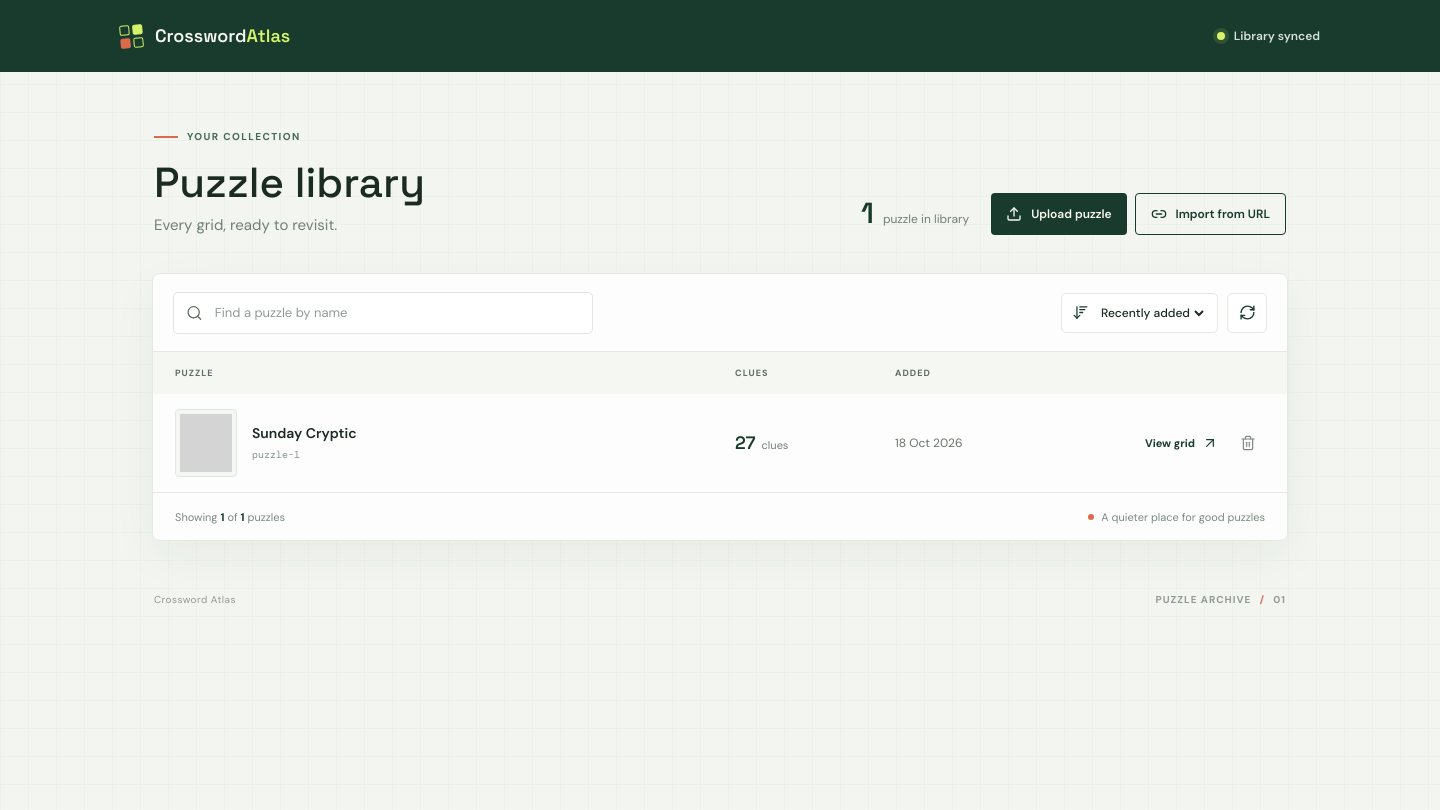
Scenario: opens and closes the upload dialog
Expected: the heading "Sunday Cryptic" is shown, [252,424,357,443]
Click the button "Upload puzzle": [1059, 214] box [991,193,1126,235]
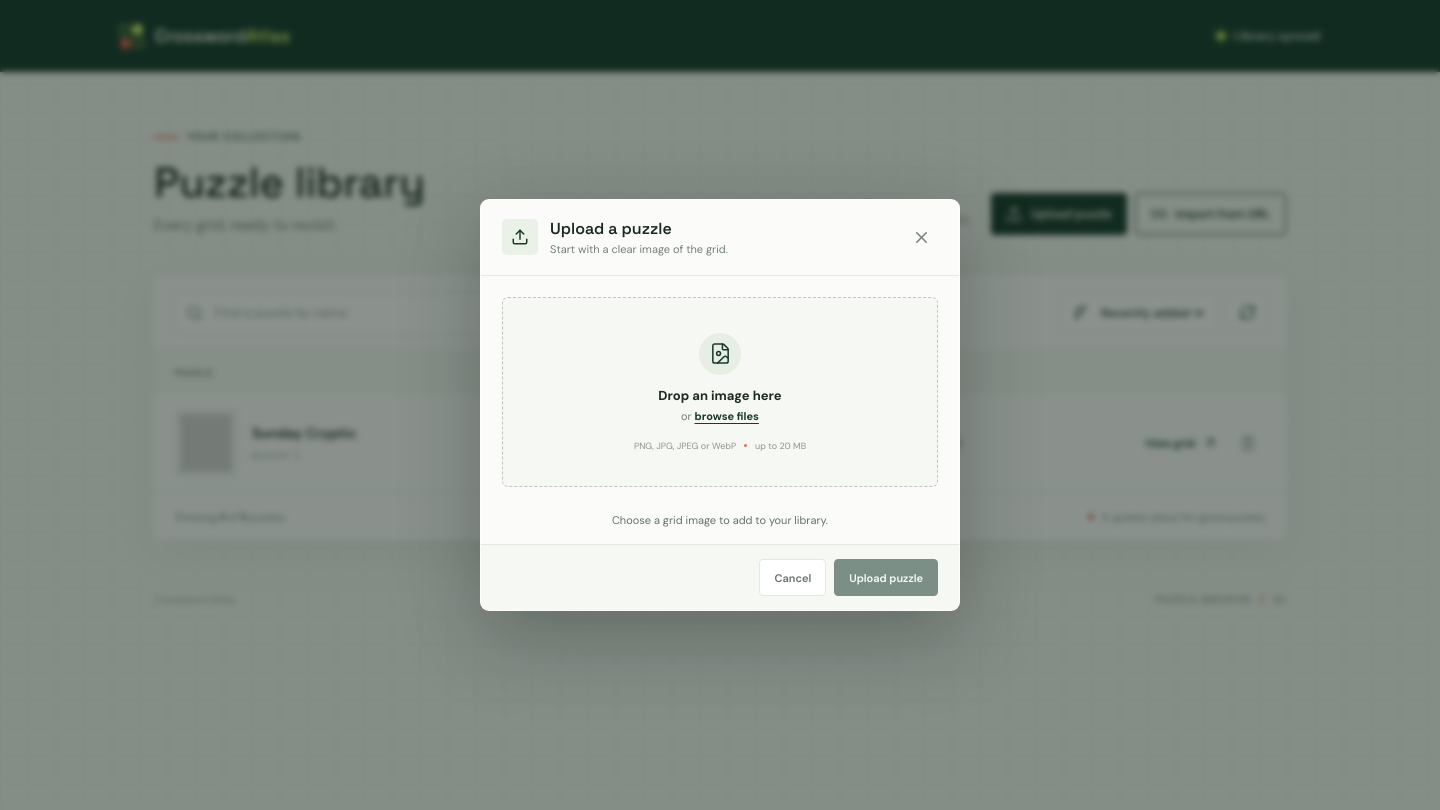
Click the button named "Close upload dialog" in the row of "Start with a clear image of the grid.": [921, 238] box [904,220,938,254]
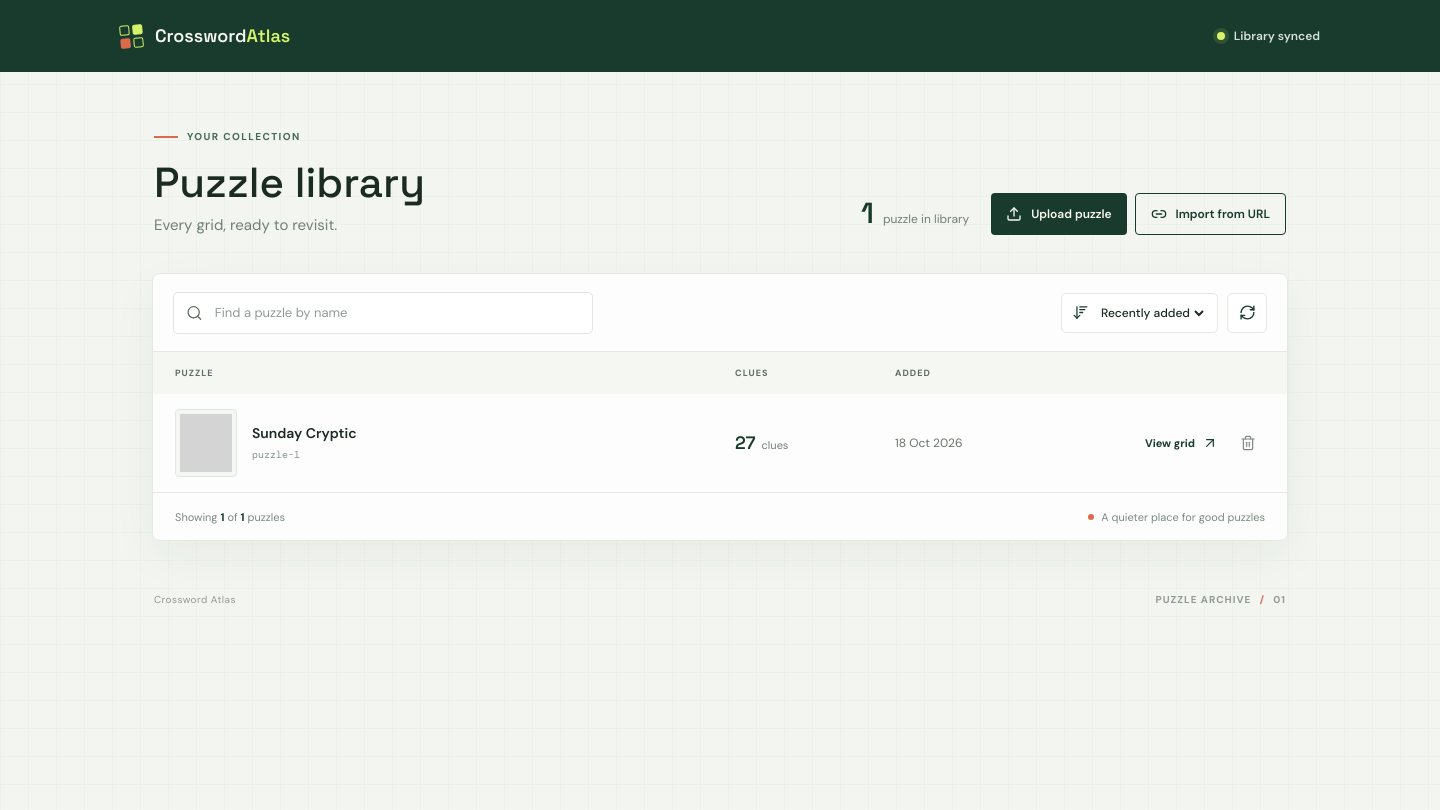
Now the heading "Upload a puzzle" is gone
